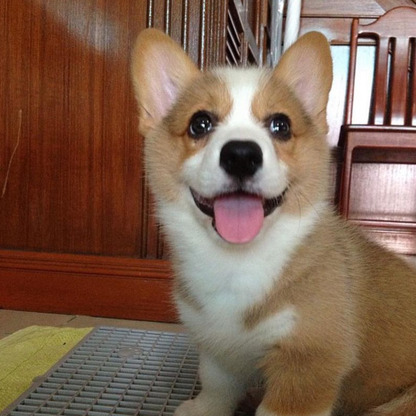Corgi: (117, 26, 383, 407)
